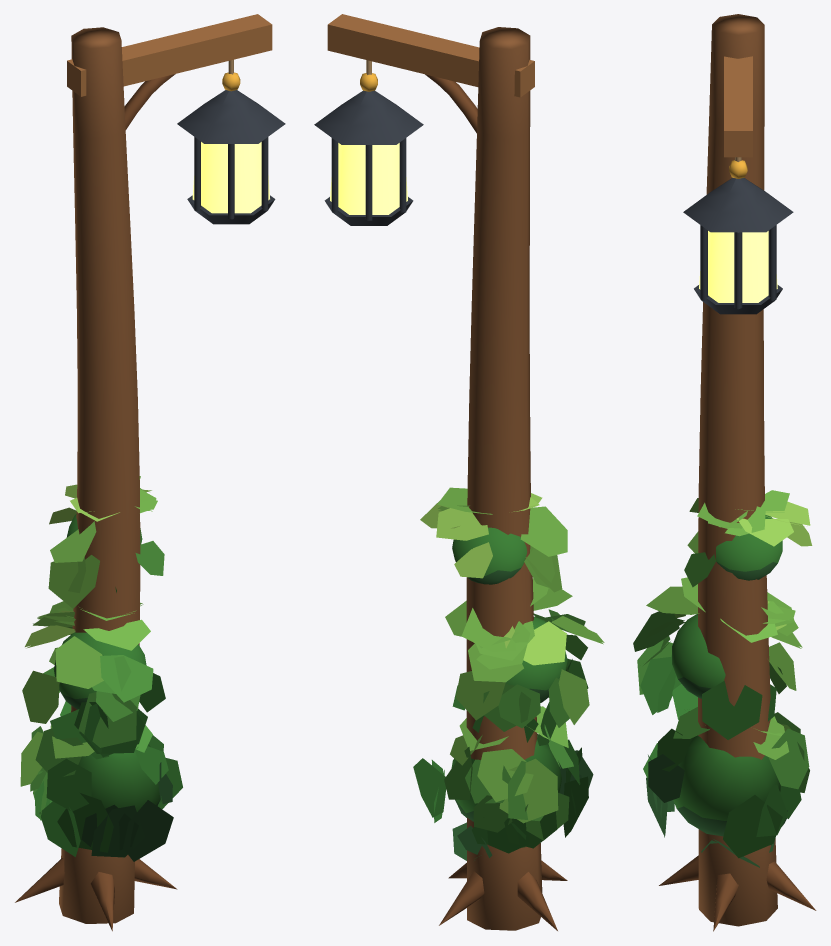
Rendered from LanternPost.glb.
3 renders of one model, left to right at view 1: azimuth 30°, elevation 25°; view 2: azimuth 150°, elevation 25°; view 3: azimuth 270°, elevation 25°, orthographic.
Parts seen in each view (by area): view 1: Body, Lantern, LanternLamp; view 2: Body, Lantern, LanternLamp; view 3: Body, Lantern, LanternLamp.
Boxes of the visible parts, x1=… form: Body: x1=15, y1=14, x2=272, y2=931; Lantern: x1=177, y1=59, x2=285, y2=224; LanternLamp: x1=192, y1=142, x2=269, y2=213; Body: x1=327, y1=14, x2=604, y2=930; Lantern: x1=314, y1=60, x2=423, y2=225; LanternLamp: x1=330, y1=143, x2=407, y2=214; Body: x1=633, y1=14, x2=816, y2=931; Lantern: x1=683, y1=157, x2=793, y2=314; LanternLamp: x1=699, y1=231, x2=777, y2=302.
Size of the model in its own units: 2.18 by 7.41 by 1.39.
Materials: 3 (2 with a texture image).
